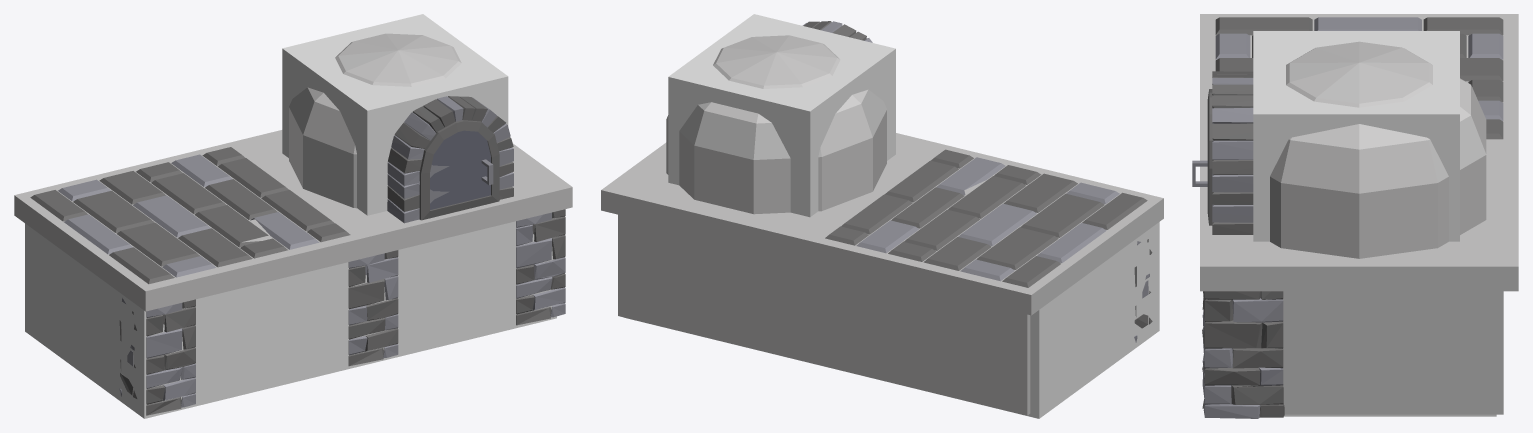
Rendered from oven_stone.glb.
The picture shows the model from 3 angles, left to right: view 1: azimuth 30°, elevation 25°; view 2: azimuth 150°, elevation 25°; view 3: azimuth 270°, elevation 25°; orthographic projection. The views are drawn at different scales.
Parts seen in each view (by area): view 1: bake, Cube.001, Cube.002; view 2: bake, Cube.002, Cube.001; view 3: bake, Cube.002, Cube.001.
Boxes of the visible parts, x1,y1,x2,y2 form: bake: (14, 33, 572, 415); Cube.001: (25, 218, 556, 418); Cube.002: (282, 14, 508, 215); bake: (601, 21, 1163, 415); Cube.002: (668, 14, 895, 217); Cube.001: (626, 222, 1159, 418); bake: (1192, 14, 1518, 418); Cube.002: (1253, 31, 1459, 241); Cube.001: (1284, 414, 1496, 416).
Size of the model in its own units: 4.65 by 2.55 by 2.54.
Materials: 1 (1 with a texture image).
